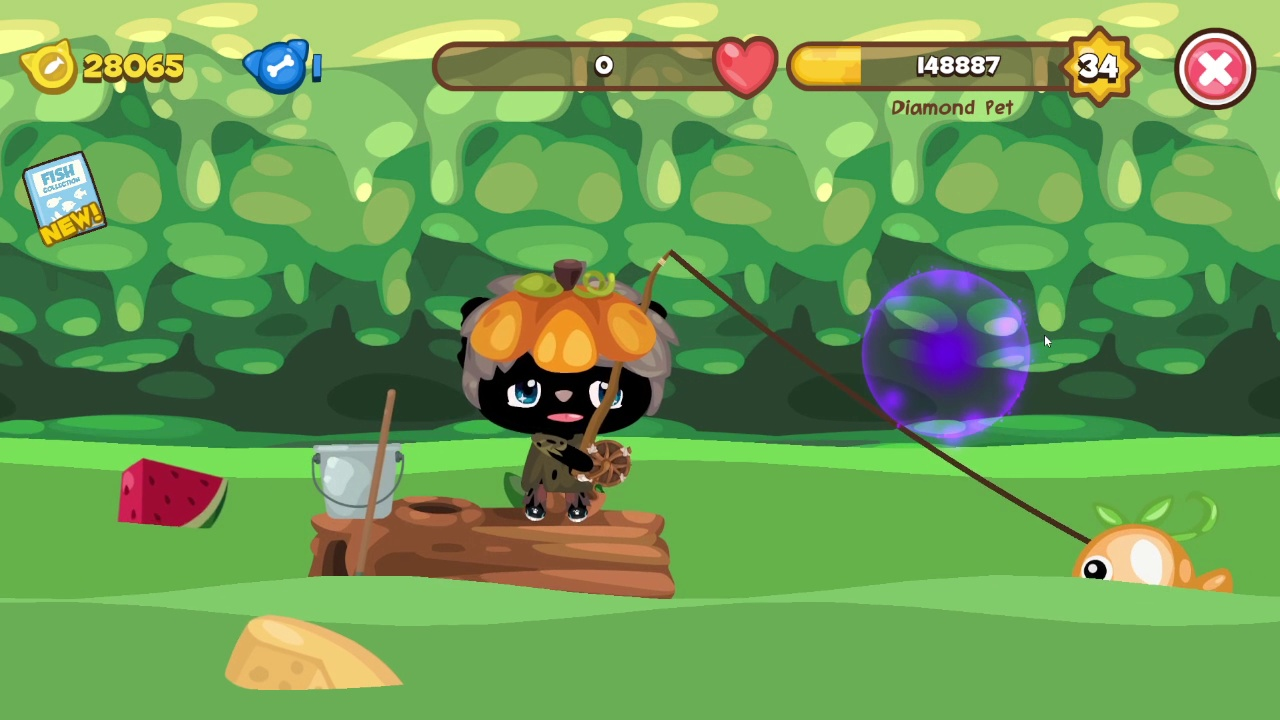point: (860, 266, 1033, 446)
